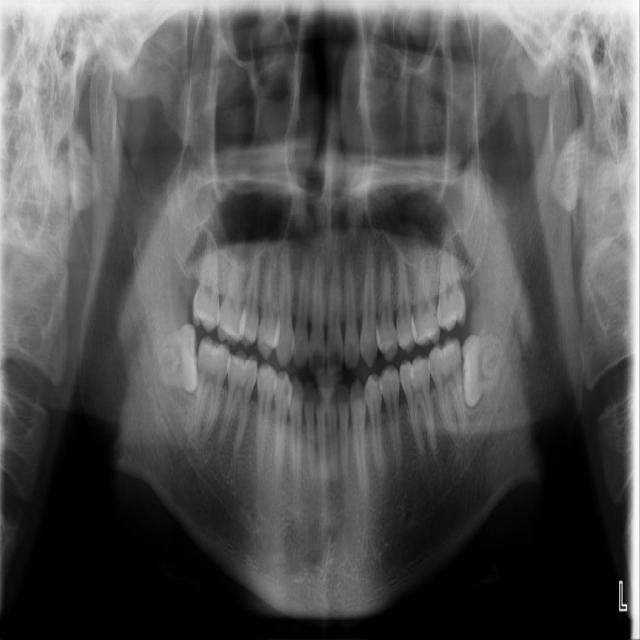52: (398, 354, 434, 402)
BioHorizons Implant: (436, 226, 470, 333)
Biomet 3i Implant: (461, 332, 504, 408)
Blue Sky Bio Implant: (426, 336, 467, 436)
Caries: (190, 241, 221, 334)
Implant: (193, 335, 232, 439)
Keystone Dental Implant: (155, 322, 201, 395)
